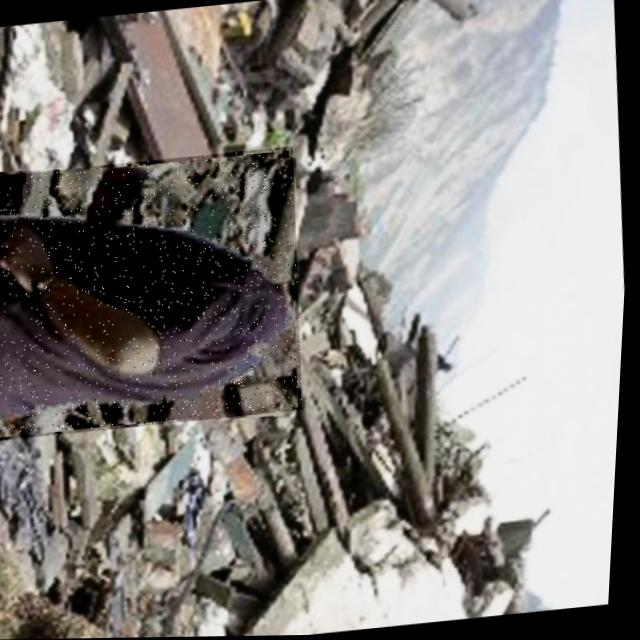Person in Rubble: (0, 146, 316, 441)
